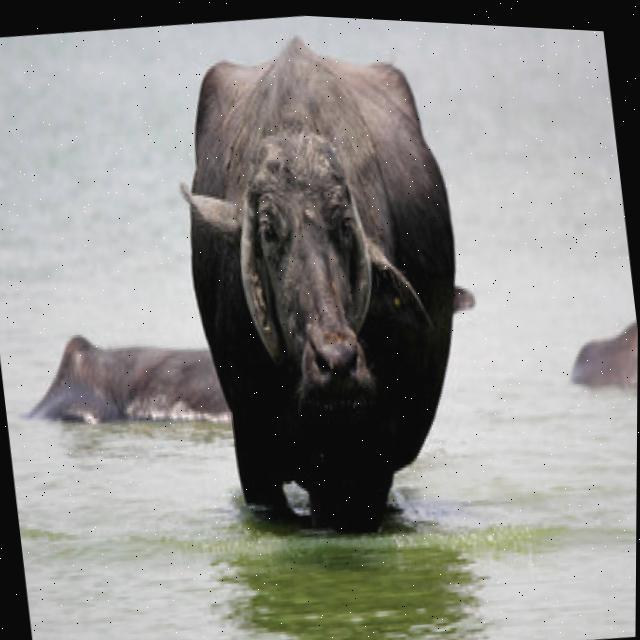Buffalo: (156, 8, 493, 549)
